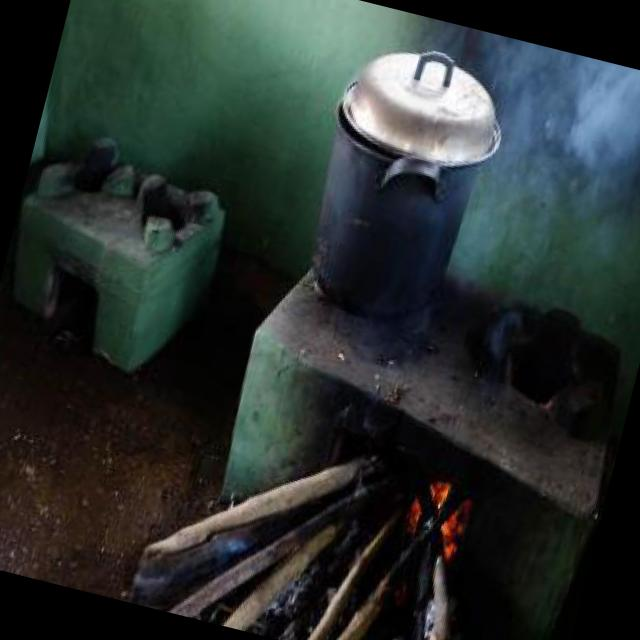fire: (399, 466, 477, 560)
smoke: (426, 32, 640, 319)
